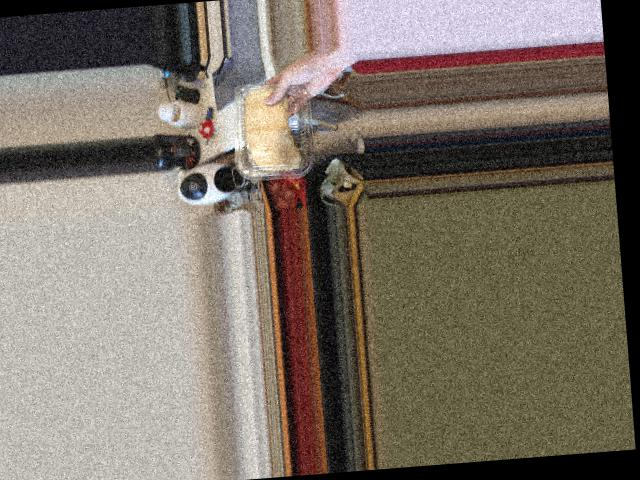cheese: (222, 82, 320, 175)
